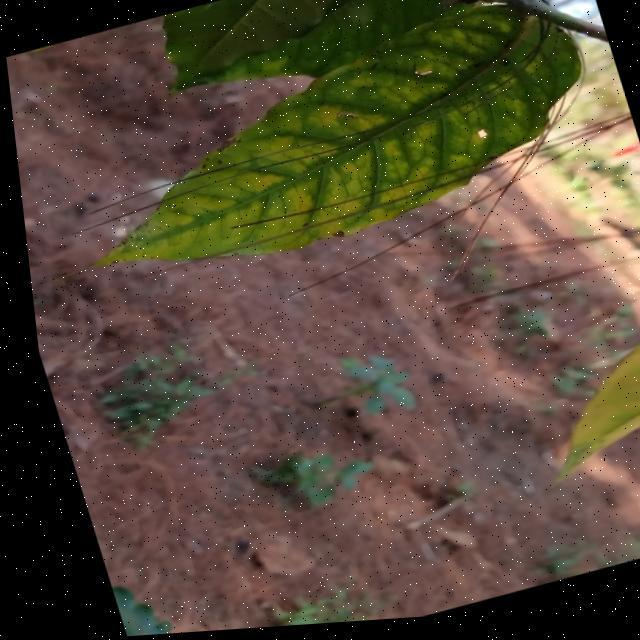leaves: (79, 0, 608, 340)
